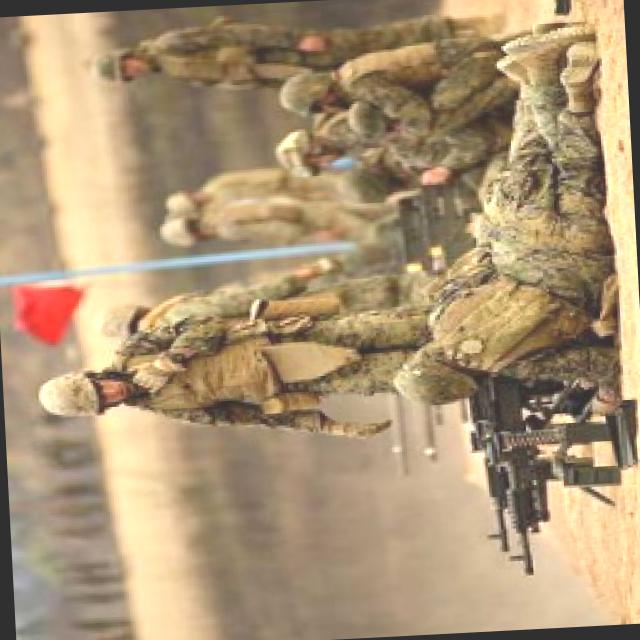long weapon: (470, 402, 586, 566)
